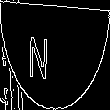N_N: (44, 29, 66, 81)
